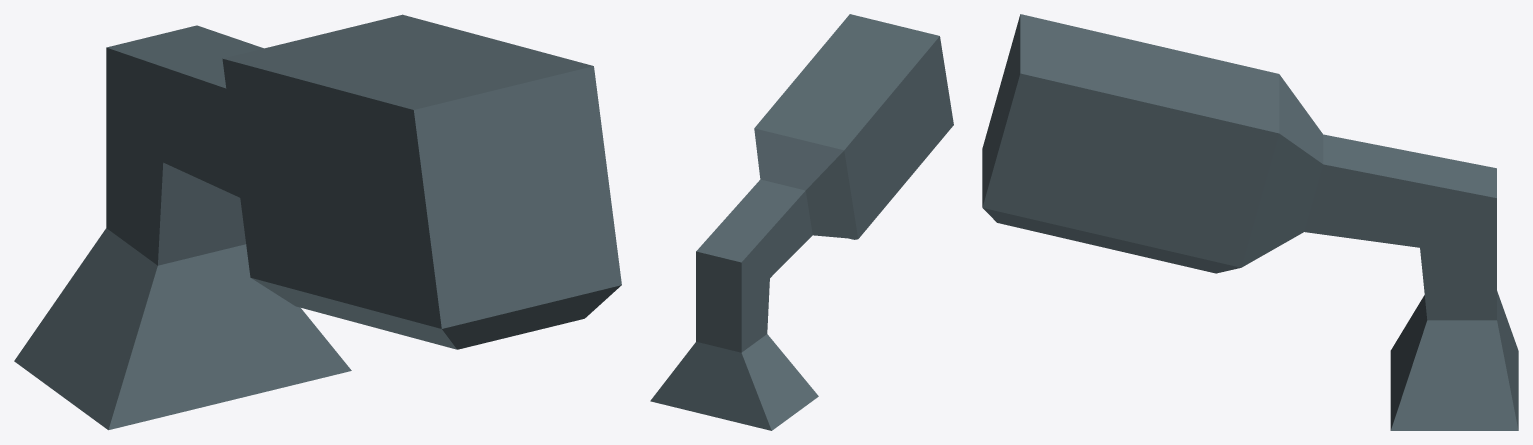
The model's file is RoofAcc_LampsSmall.fbx.
3 views of the same model, side by side, from view 1: azimuth 30°, elevation 25°; view 2: azimuth 150°, elevation 25°; view 3: azimuth 270°, elevation 25° (orthographic). The views are drawn at different scales.
Visible parts, largest first — view 1: RoofAcc_LampsSmall; view 2: RoofAcc_LampsSmall; view 3: RoofAcc_LampsSmall.
Boxes of the visible parts, box(x1,y1,x2,y2) form: RoofAcc_LampsSmall: box(14, 14, 621, 430); RoofAcc_LampsSmall: box(650, 14, 953, 430); RoofAcc_LampsSmall: box(982, 14, 1518, 430).
Size of the model in its own units: 10.43 by 20.99 by 29.38.
